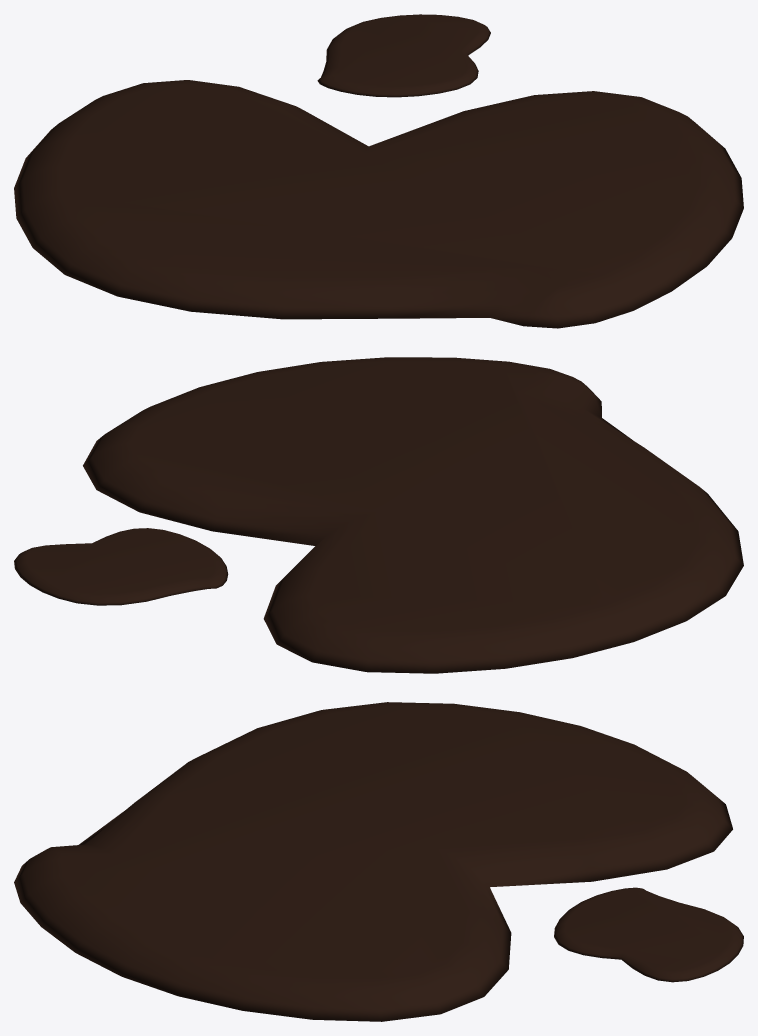
Rendered from Oil.glb.
3 views of the same model, one above another, from view 1: azimuth 30°, elevation 25°; view 2: azimuth 150°, elevation 25°; view 3: azimuth 270°, elevation 25° (orthographic).
Parts seen in each view (by area): view 1: Circle.001; view 2: Circle.001; view 3: Circle.001.
Boxes of the visible parts, box(x1,y1,x2,y2) form: Circle.001: box(14, 14, 743, 328); Circle.001: box(14, 357, 743, 673); Circle.001: box(14, 702, 743, 1021).
Bounding box in the file's own units: 1.99 × 0.068 × 1.96.
